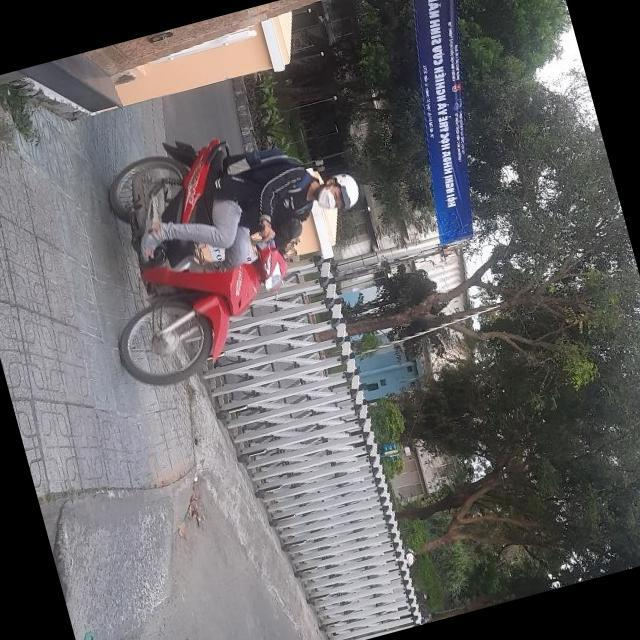WITH_HELMET: (328, 165, 366, 214)
